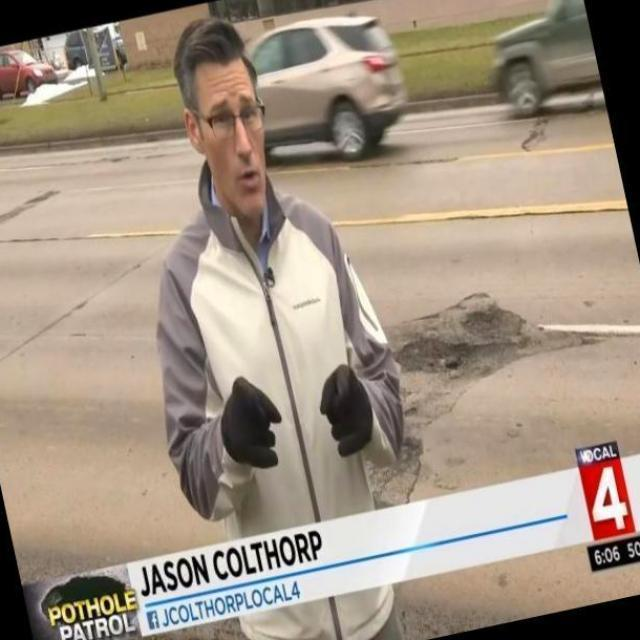Pathole: (394, 294, 604, 477)
